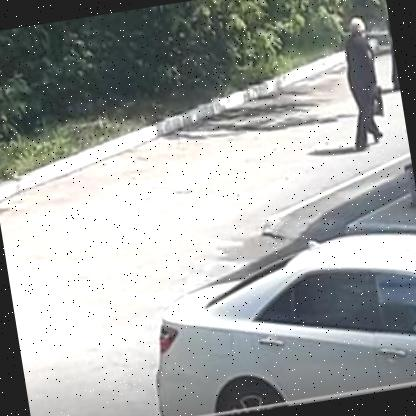person: (122, 165, 416, 416), (334, 13, 396, 154)
